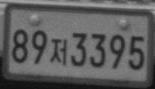3: (70, 31, 87, 66), (89, 32, 106, 67)
5: (128, 36, 145, 70)
8: (11, 28, 29, 63)
9: (108, 34, 125, 69), (31, 29, 47, 64)
저: (50, 37, 67, 65)
